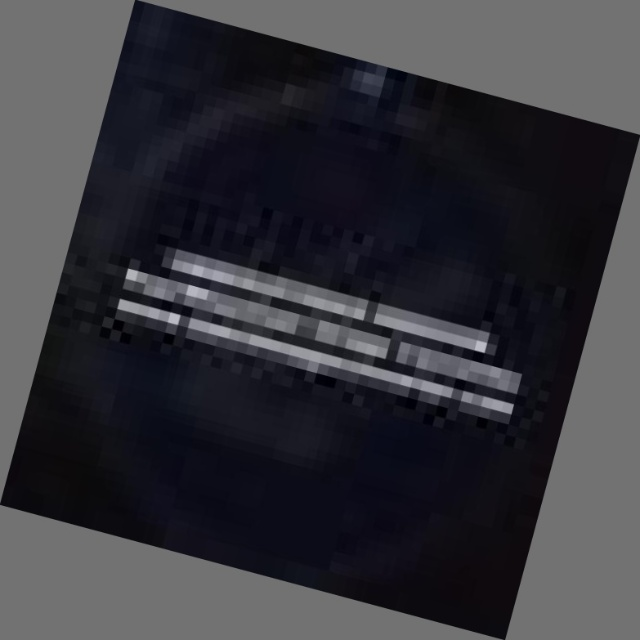R.301e: (2, 0, 630, 627)
